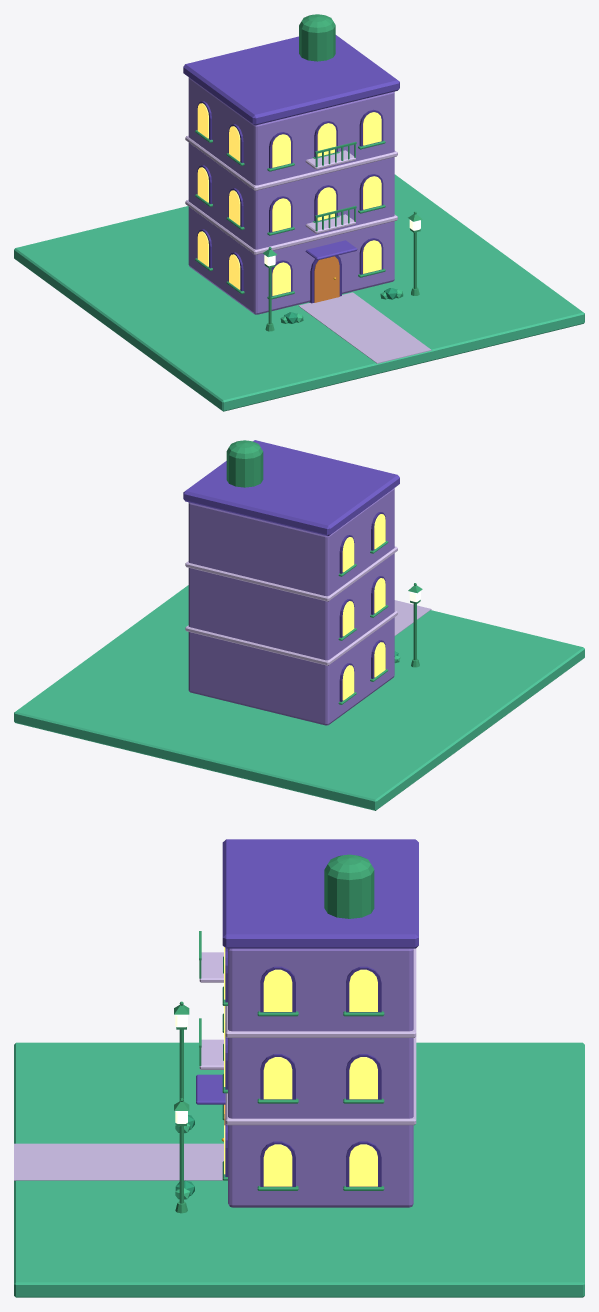
Rendered from bld_apartment.glb.
The picture shows the model from 3 angles, top to bottom: view 1: azimuth 30°, elevation 25°; view 2: azimuth 150°, elevation 25°; view 3: azimuth 270°, elevation 25°; orthographic projection. The views are drawn at different scales.
Visible parts, largest first — view 1: bld_apartment; view 2: bld_apartment; view 3: bld_apartment.
Boxes of the visible parts, x1,y1,x2,y2 form: bld_apartment: (14, 14, 584, 411); bld_apartment: (14, 440, 584, 810); bld_apartment: (14, 839, 584, 1297).
Size of the model in its own units: 16 by 10.63 by 16.
